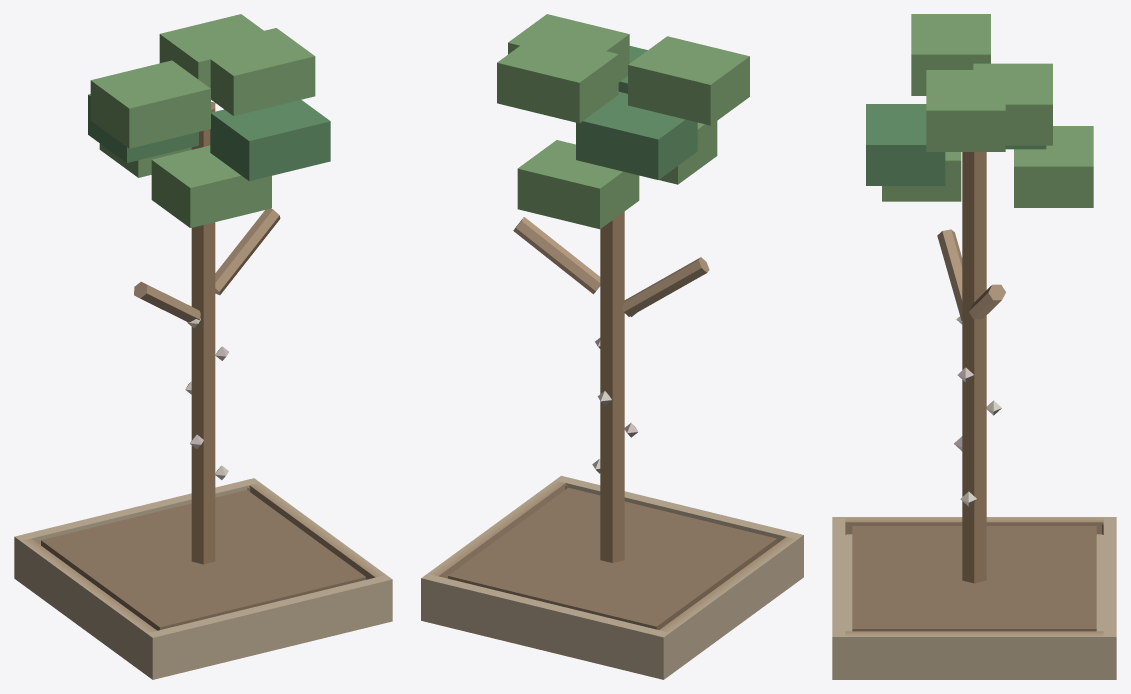
The model's file is cacao_floracion_far.glb.
3 views of the same model, side by side, from view 1: azimuth 30°, elevation 25°; view 2: azimuth 150°, elevation 25°; view 3: azimuth 270°, elevation 25° (orthographic). The views are drawn at different scales.
Parts seen in each view (by area): view 1: model; view 2: model; view 3: model.
Boxes of the visible parts, <box> form: model: <box>14,14,392,679</box>; model: <box>421,14,803,679</box>; model: <box>832,14,1116,679</box>.
Size of the model in its own units: 1 by 2.15 by 1.
